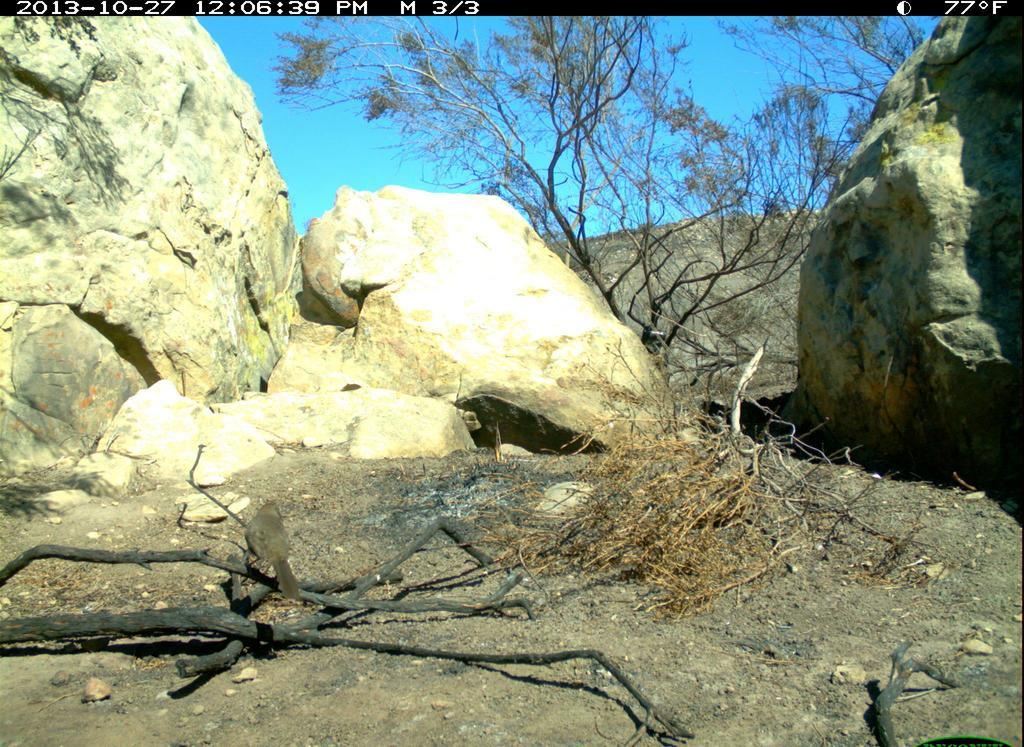bird: (237, 490, 317, 610)
